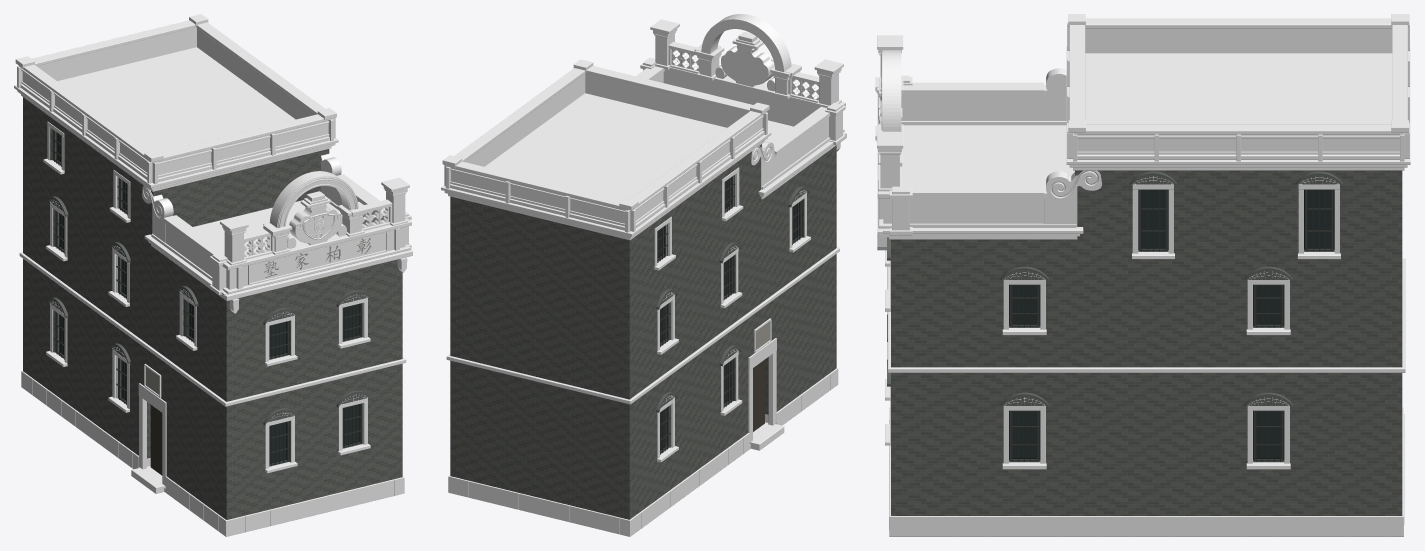
The model's file is zhangbaijiashu.glb.
3 renders of one model, left to right at view 1: azimuth 30°, elevation 25°; view 2: azimuth 150°, elevation 25°; view 3: azimuth 270°, elevation 25°, orthographic. The views are drawn at different scales.
Visible parts, largest first — view 1: 02_Front_Walls__Gray clay brick | 280 x 78 mm nominal, 02_Front_Walls__Pale sandstone window surrounds, 01_Foundation__Warm weathered lime plaster, 01_Foundation__Granite foundation, 02_Front_Walls__Window iron grille, 02_Front_Walls__Dark glazing, 10_Front_Name_Frieze__Warm weathered lime plaster, 02_Front_Walls__Dark gray arch bricks, 02_Front_Walls__Muted green-grey timber, 03_Left_Wall_Entrance__Aged dark timber doors__UNVERIFIED; view 2: 02_Front_Walls__Gray clay brick | 280 x 78 mm nominal, 02_Front_Walls__Pale sandstone window surrounds, 01_Foundation__Warm weathered lime plaster, 01_Foundation__Granite foundation, 10_Front_Name_Frieze__Warm weathered lime plaster, 02_Front_Walls__Window iron grille, 02_Front_Walls__Dark gray arch bricks, 02_Front_Walls__Dark glazing, 02_Front_Walls__Muted green-grey timber, 03_Left_Wall_Entrance__Aged dark timber doors__UNVERIFIED; view 3: 02_Front_Walls__Gray clay brick | 280 x 78 mm nominal, 02_Front_Walls__Pale sandstone window surrounds, 01_Foundation__Warm weathered lime plaster, 01_Foundation__Granite foundation, 02_Front_Walls__Dark glazing, 02_Front_Walls__Dark gray arch bricks, 02_Front_Walls__Muted green-grey timber, 02_Front_Walls__Window iron grille, 02_Front_Walls__Unlit window recess.
Part boxes in pixels (x1,y1,x2,y2): 02_Front_Walls__Gray clay brick | 280 x 78 mm nominal: (23,97,402,519); 02_Front_Walls__Pale sandstone window surrounds: (14,14,412,473); 01_Foundation__Warm weathered lime plaster: (22,27,408,531); 01_Foundation__Granite foundation: (21,199,404,536); 02_Front_Walls__Window iron grille: (51,129,362,465); 02_Front_Walls__Dark glazing: (57,132,359,463); 10_Front_Name_Frieze__Warm weathered lime plaster: (226,227,405,289); 02_Front_Walls__Dark gray arch bricks: (46,196,371,425); 02_Front_Walls__Muted green-grey timber: (53,129,361,465); 03_Left_Wall_Entrance__Aged dark timber doors__UNVERIFIED: (150,404,162,475); 02_Front_Walls__Gray clay brick | 280 x 78 mm nominal: (450,144,836,519); 02_Front_Walls__Pale sandstone window surrounds: (441,14,846,462); 01_Foundation__Warm weathered lime plaster: (451,33,842,533); 01_Foundation__Granite foundation: (448,190,838,536); 10_Front_Name_Frieze__Warm weathered lime plaster: (663,70,819,126); 02_Front_Walls__Window iron grille: (657,175,803,454); 02_Front_Walls__Dark gray arch bricks: (656,186,810,412); 02_Front_Walls__Dark glazing: (657,178,796,448); 02_Front_Walls__Muted green-grey timber: (658,175,801,452); 03_Left_Wall_Entrance__Aged dark timber doors__UNVERIFIED: (753,359,764,431); 02_Front_Walls__Gray clay brick | 280 x 78 mm nominal: (891,170,1402,515); 02_Front_Walls__Pale sandstone window surrounds: (875,14,1410,469); 01_Foundation__Warm weathered lime plaster: (878,28,1404,536); 01_Foundation__Granite foundation: (889,176,1403,536); 02_Front_Walls__Dark glazing: (1011,190,1331,458); 02_Front_Walls__Dark gray arch bricks: (887,171,1342,408); 02_Front_Walls__Muted green-grey timber: (1009,189,1333,461); 02_Front_Walls__Window iron grille: (1010,190,1332,461); 02_Front_Walls__Unlit window recess: (1009,189,1334,459).
Bounding box in the file's own units: 6.29 × 10.5 × 11.94.
Materials: 12 (1 with a texture image).
